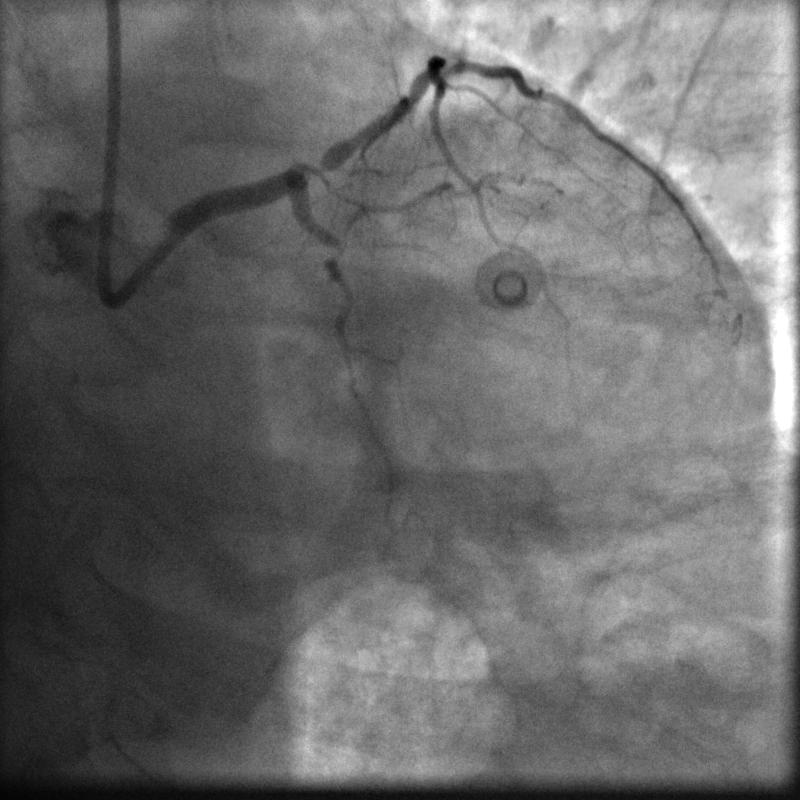Stenosis: (294, 151, 339, 178)
